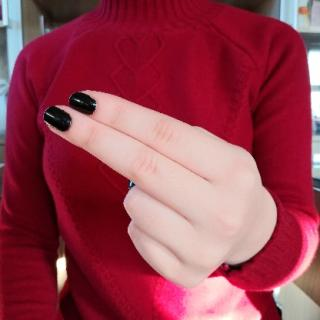AYN: (39, 82, 276, 293)
